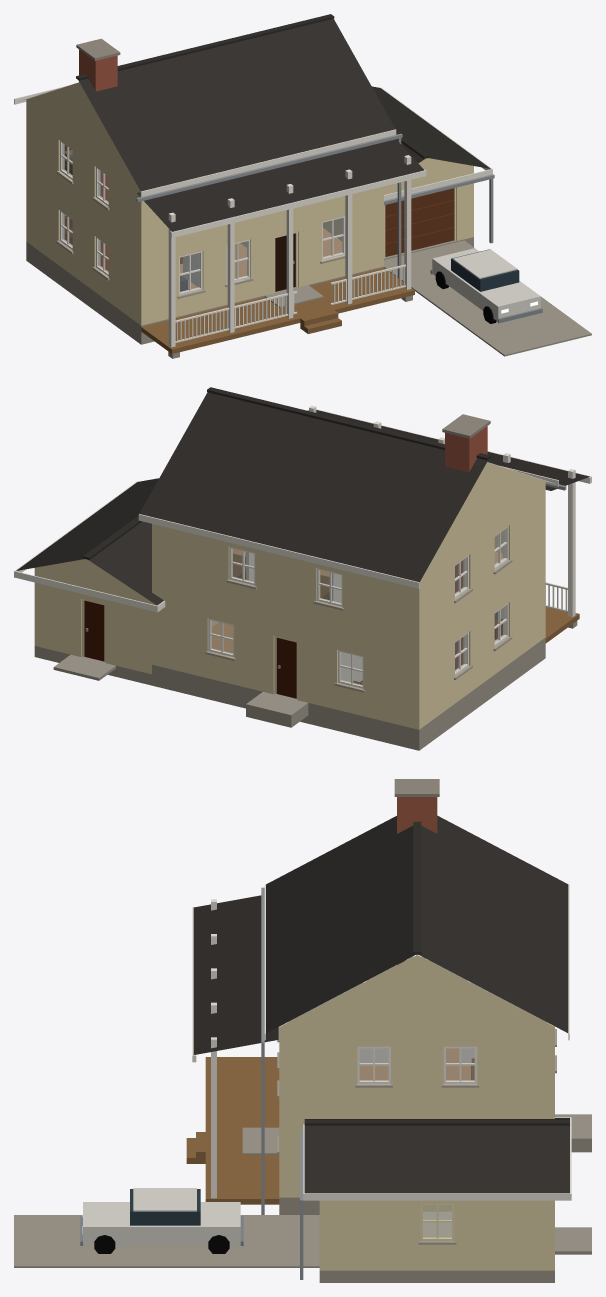
Rendered from colonial_c.glb.
The picture shows the model from 3 angles, top to bottom: view 1: azimuth 30°, elevation 25°; view 2: azimuth 150°, elevation 25°; view 3: azimuth 270°, elevation 25°; orthographic projection. The views are drawn at different scales.
Parts seen in each view (by area): view 1: LOD0, LEAF0; view 2: LOD0, LEAF2, LEAF1, FURN; view 3: LOD0.
Part boxes in pixels (x1,y1,x2,y2): LOD0: (14,14,591,358); LEAF0: (275,233,295,291); LOD0: (14,387,591,750); LEAF2: (84,600,104,661); LEAF1: (276,638,296,698); FURN: (233,553,502,684); LOD0: (14,779,591,1282).
Size of what is drawn, in the model's own units: 15.37 by 9.86 by 17.2.
